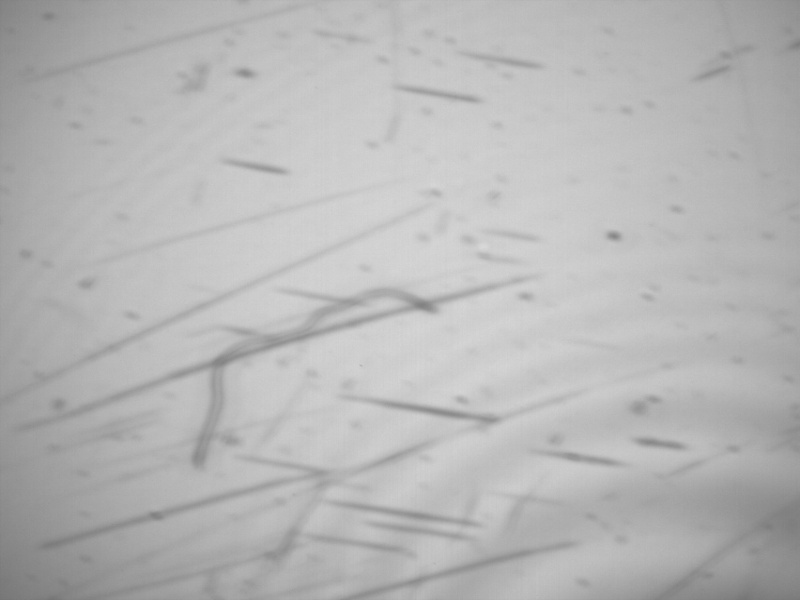fiber: (189, 283, 445, 472)
